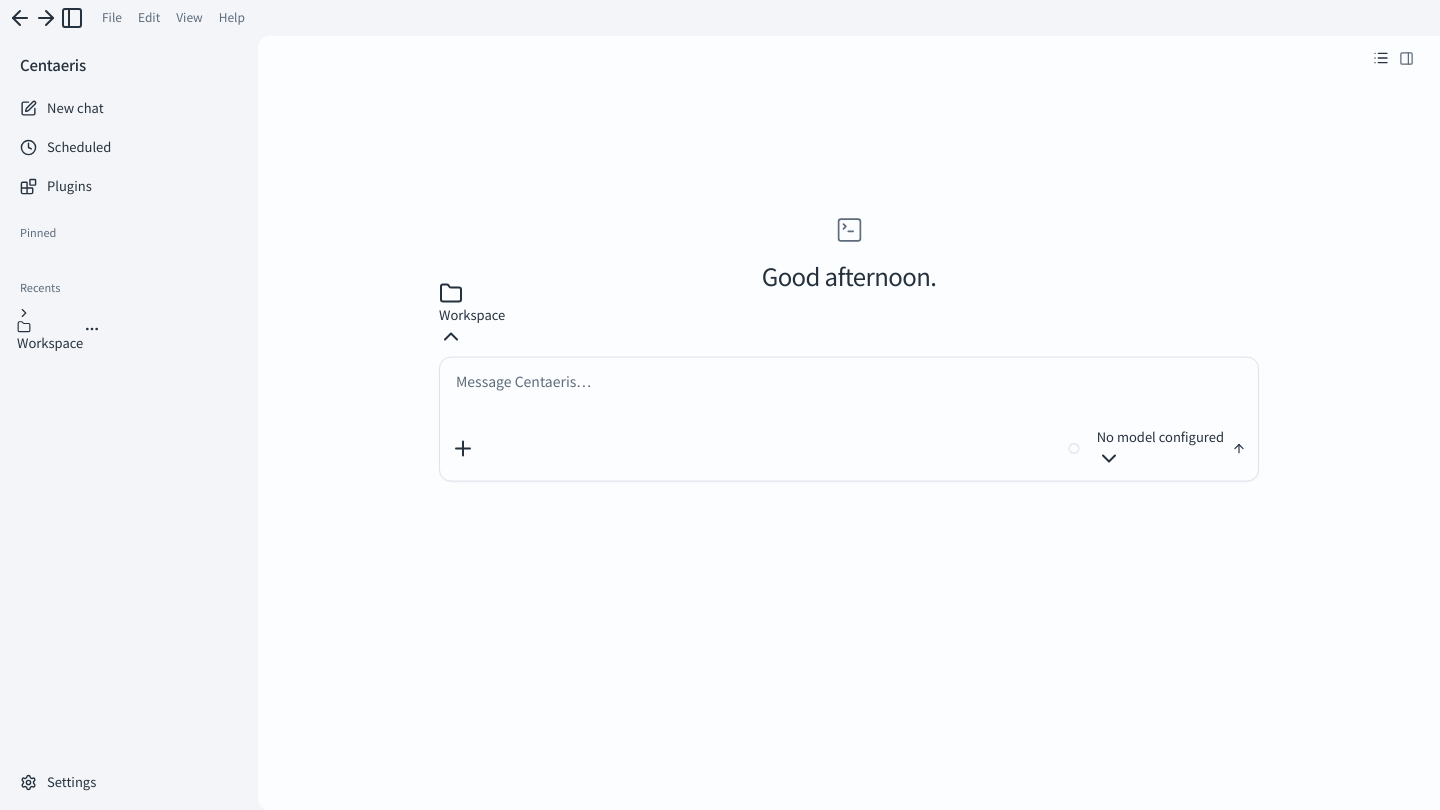
Scenario: opening the overview refreshes Git facts instead of keeping the initialization snapshot
Click the button named "Workspace overview" at (1381, 58), box [1373,50,1389,66]
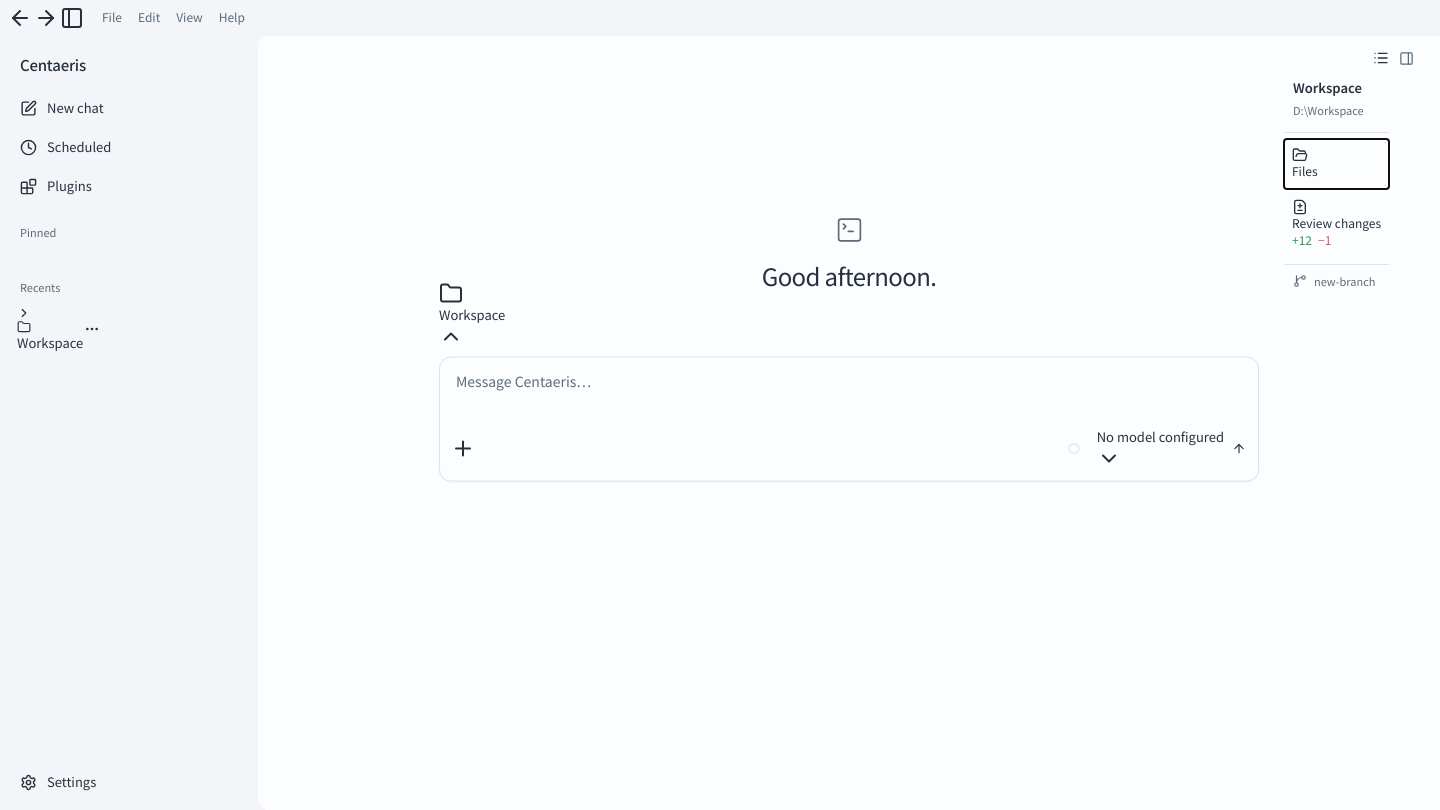
Now the dialog "Workspace" is shown, box [1284,70,1389,298]
Now the text "new-branch" is shown, box [1314,274,1376,289]
